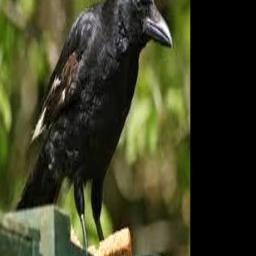Crow: (12, 0, 173, 256)
